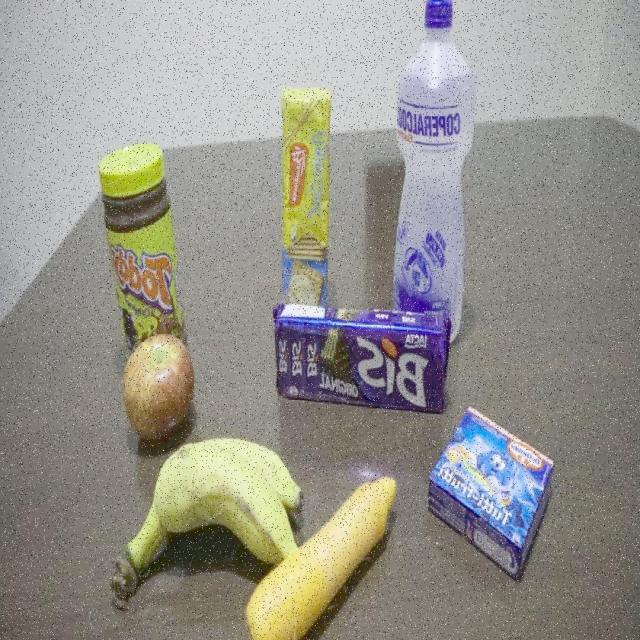AlcoholBottle: (386, 0, 472, 308)
Apple: (120, 338, 196, 431)
Banana: (103, 431, 293, 624)
Carrot: (298, 470, 400, 636)
ChocolatePowder: (99, 142, 182, 322)
Cracker: (280, 86, 333, 302)
Gelatine: (425, 409, 554, 574)
